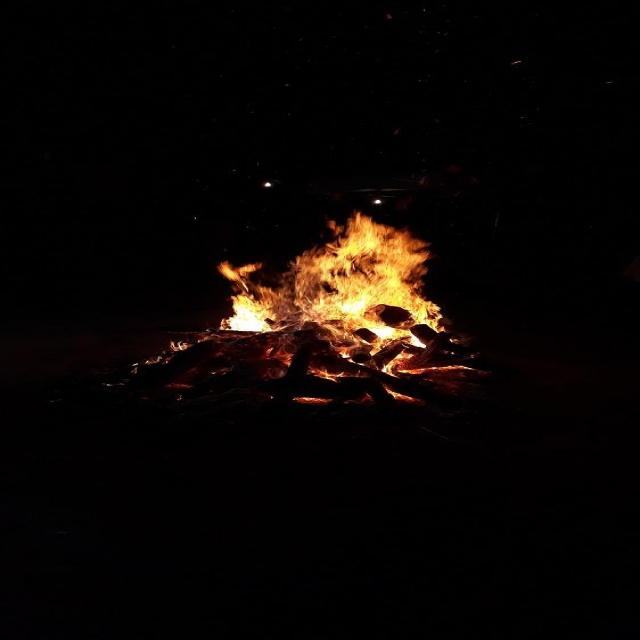Fire: (129, 212, 478, 377)
